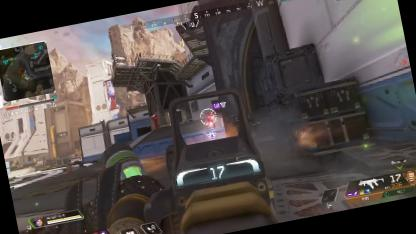Target: (204, 110, 215, 128)
